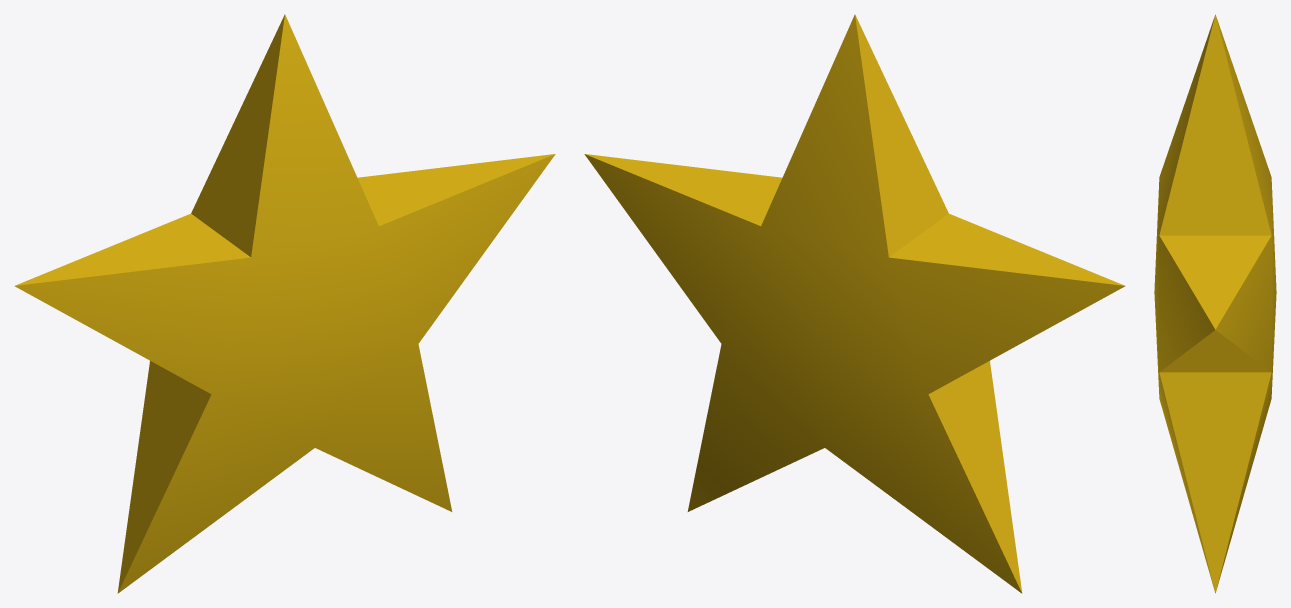
The model's file is Star.fbx.
3 views of the same model, side by side, from view 1: azimuth 30°, elevation 25°; view 2: azimuth 150°, elevation 25°; view 3: azimuth 270°, elevation 25° (orthographic). The views are drawn at different scales.
Parts seen in each view (by area): view 1: Star; view 2: Star; view 3: Star.
Boxes of the visible parts, left/top/right/bottom form: Star: left=14, top=14, right=555, bottom=593; Star: left=584, top=14, right=1125, bottom=593; Star: left=1154, top=14, right=1276, bottom=593.
Size of the model in its own units: 1.9 by 1.81 by 0.3976.
